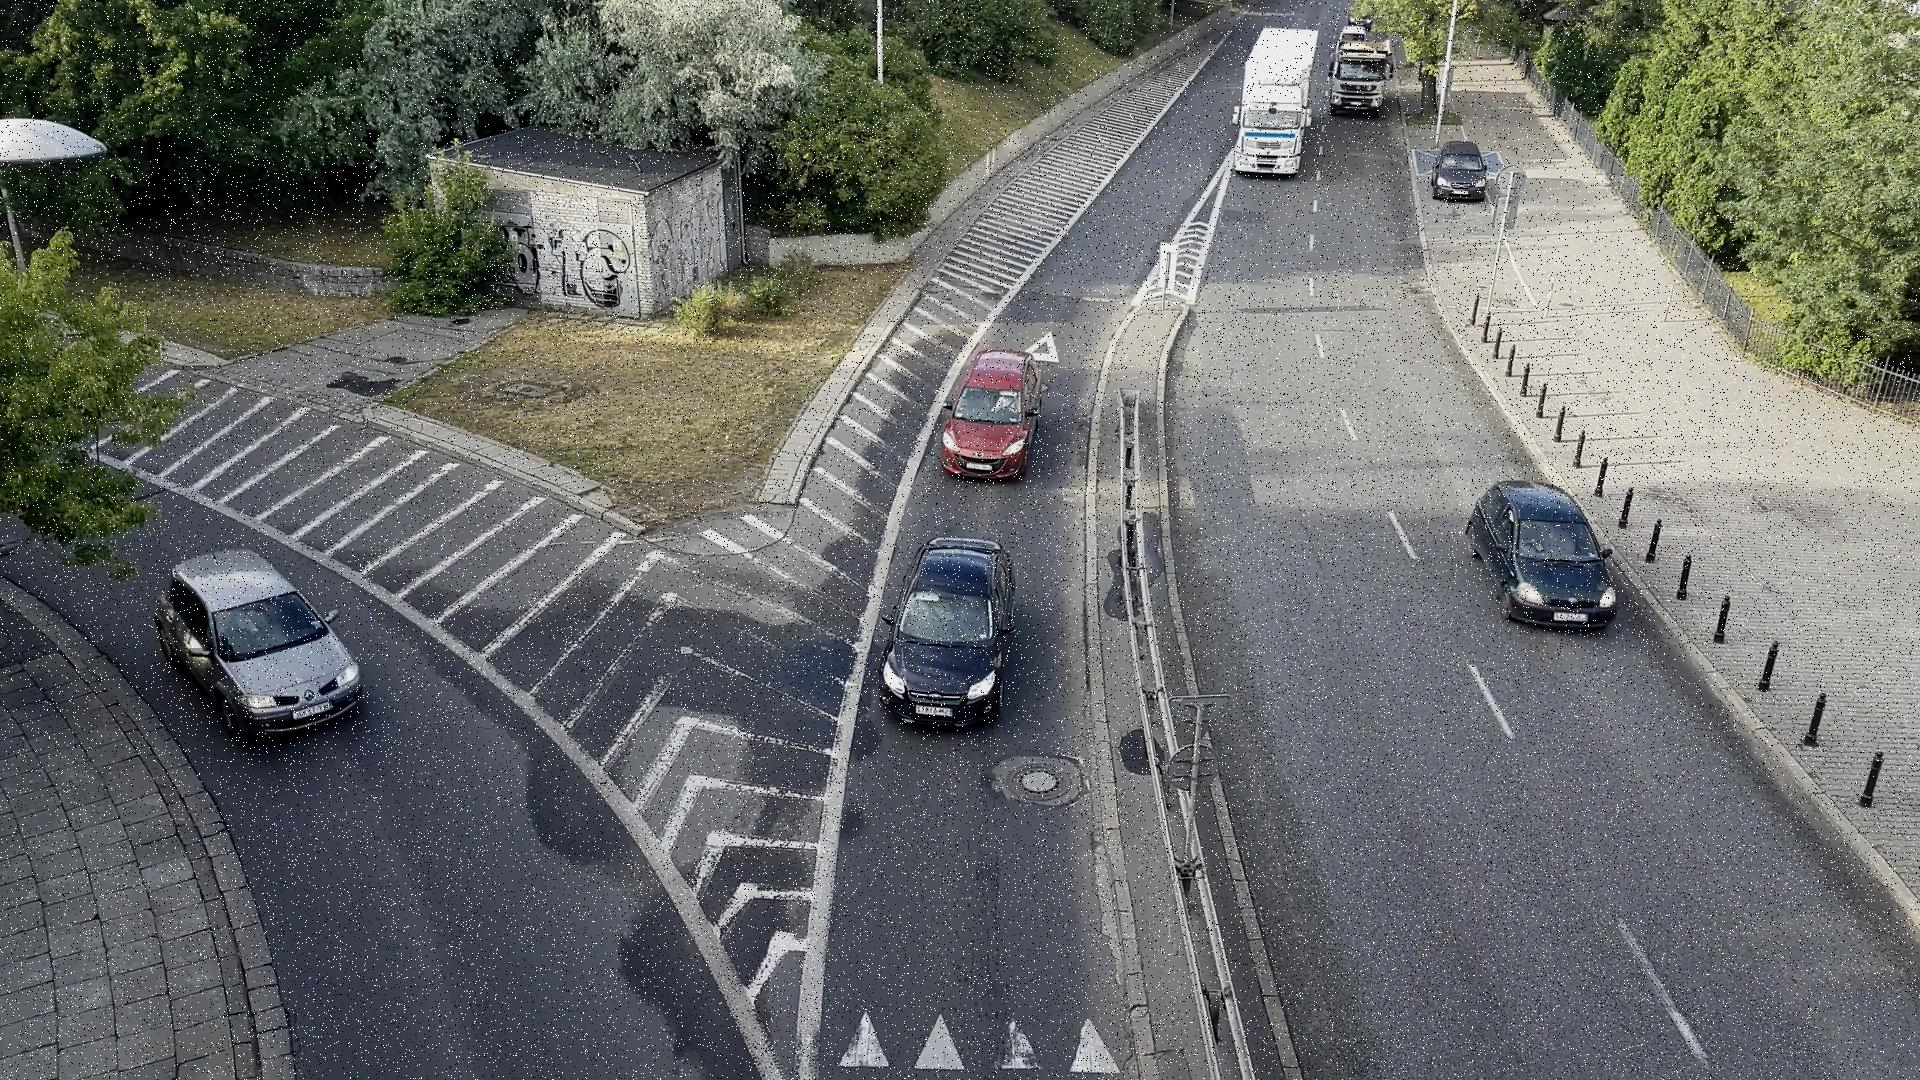car: (137, 538, 361, 757), (868, 533, 1022, 736), (1452, 468, 1626, 628), (930, 345, 1052, 483), (1428, 133, 1497, 207)
truck: (1207, 29, 1337, 199), (1323, 37, 1407, 127)
